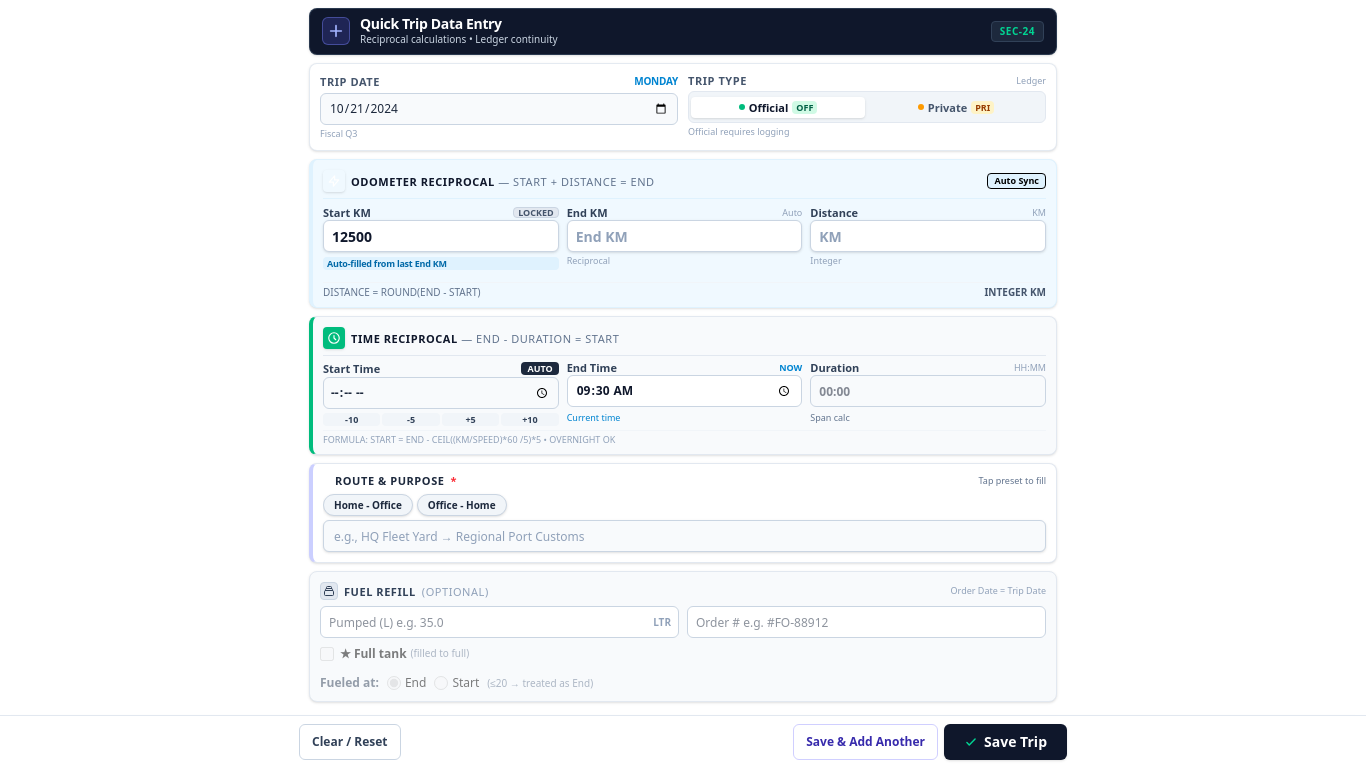
it: QuickTripForm › Auto button recomputes Estimated Start Time even when Start Time filled
The width and height of the screenshot is (1366, 768).
Expected: the number field labelled "Start KM" holds "12500", [323,220,559,252]
Step 1. Type "08:00" into the time field labelled "Start Time" → (441, 393), box [323,377,559,409]
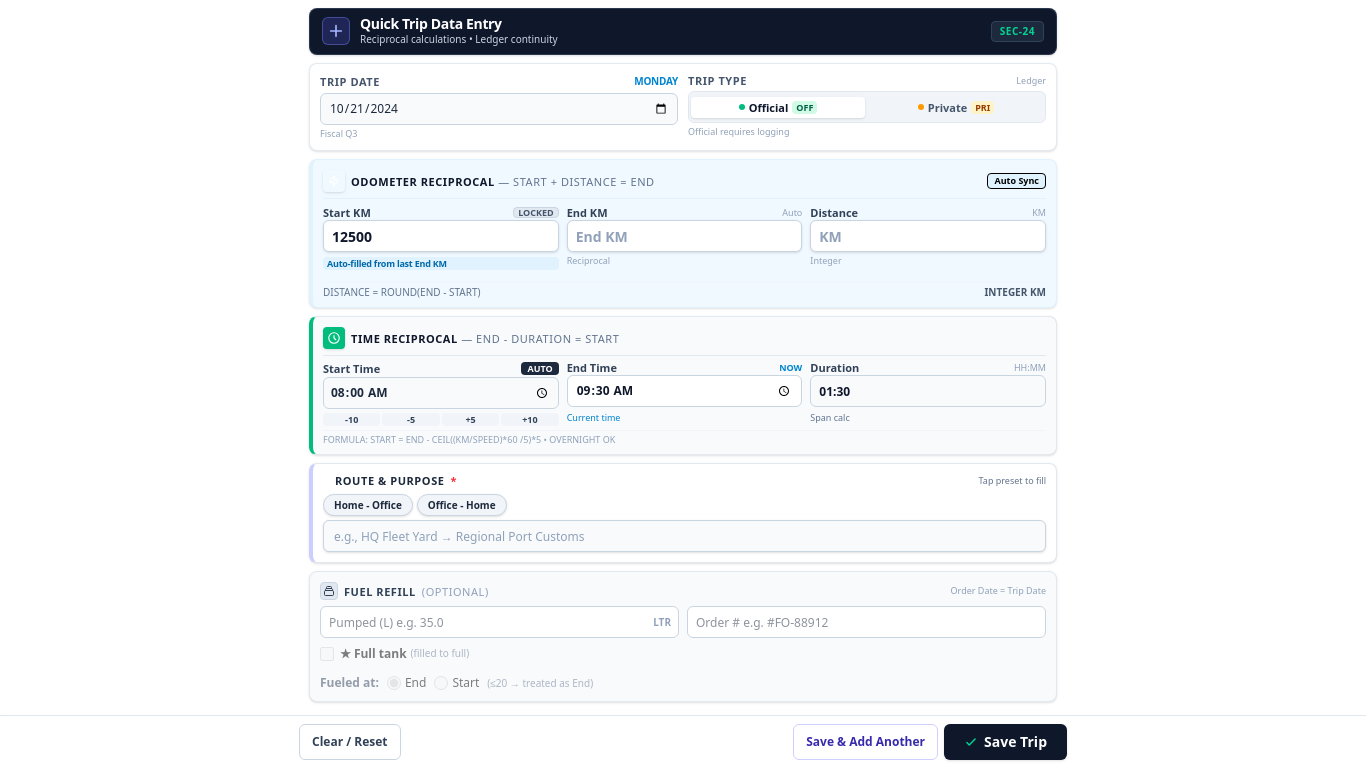
Step 2. Type "10" into the number field named "Trip Distance" → (928, 236), box [810,220,1046,252]
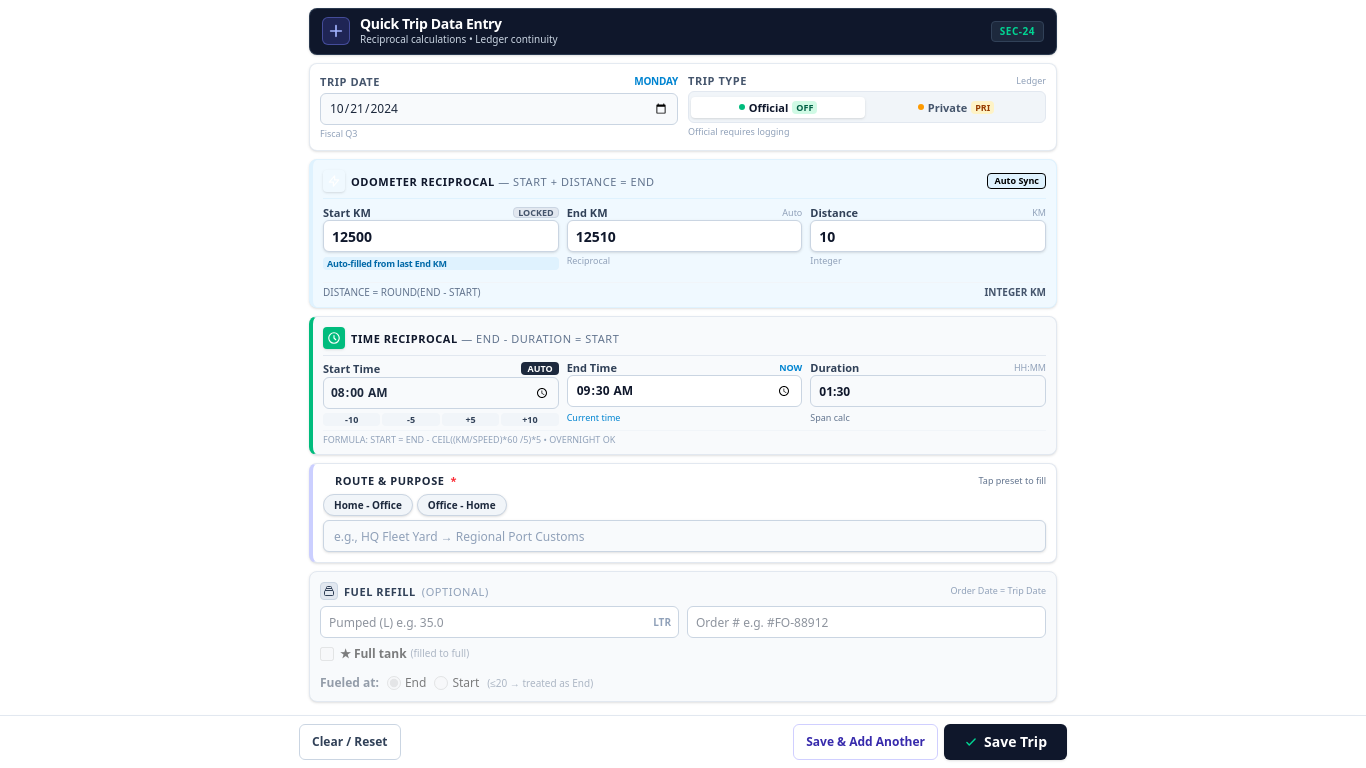
# Click Auto button should recompute to 09:00 (end 09:30 - 30 min)
Step 3. Click the button labelled "AUTO" → (540, 368), box [521,362,559,375]
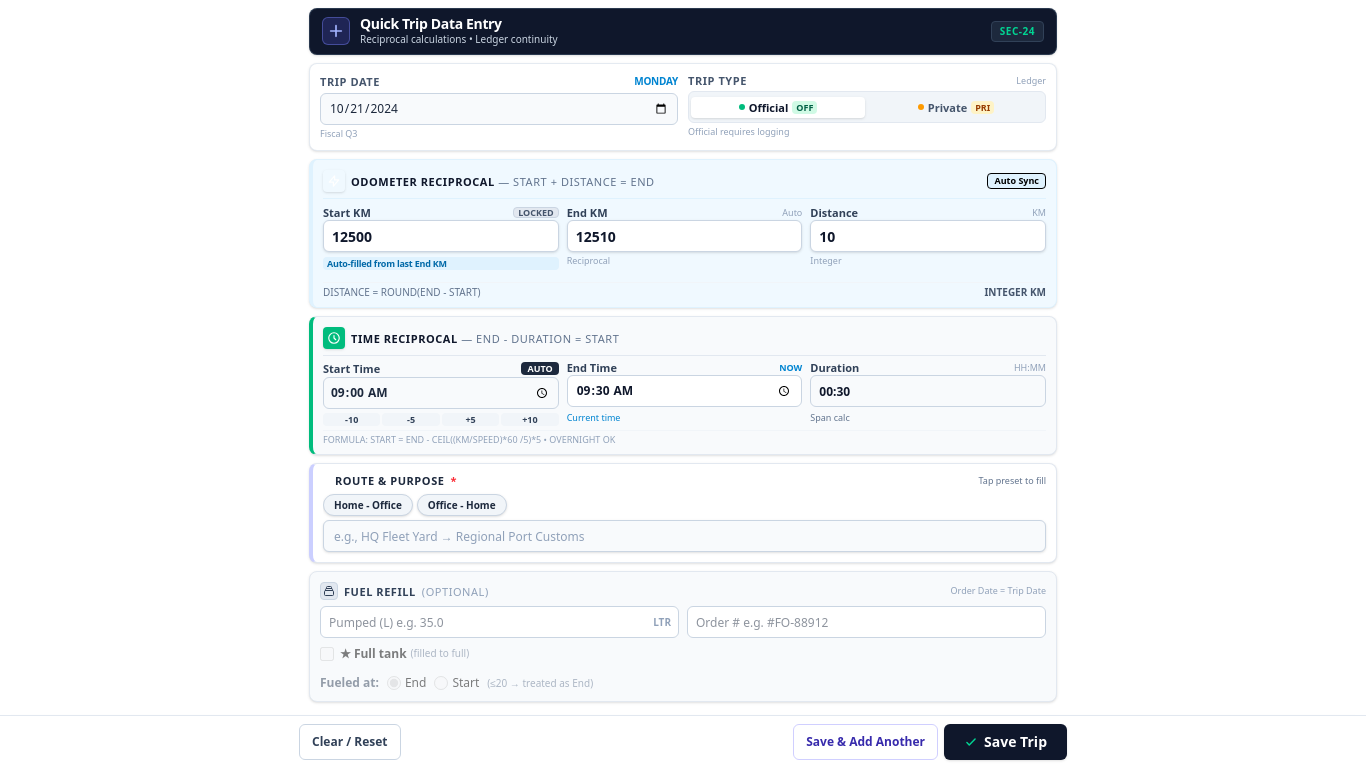
Expected: the time field labelled "Start Time" holds "09:00", [323,377,559,409]
